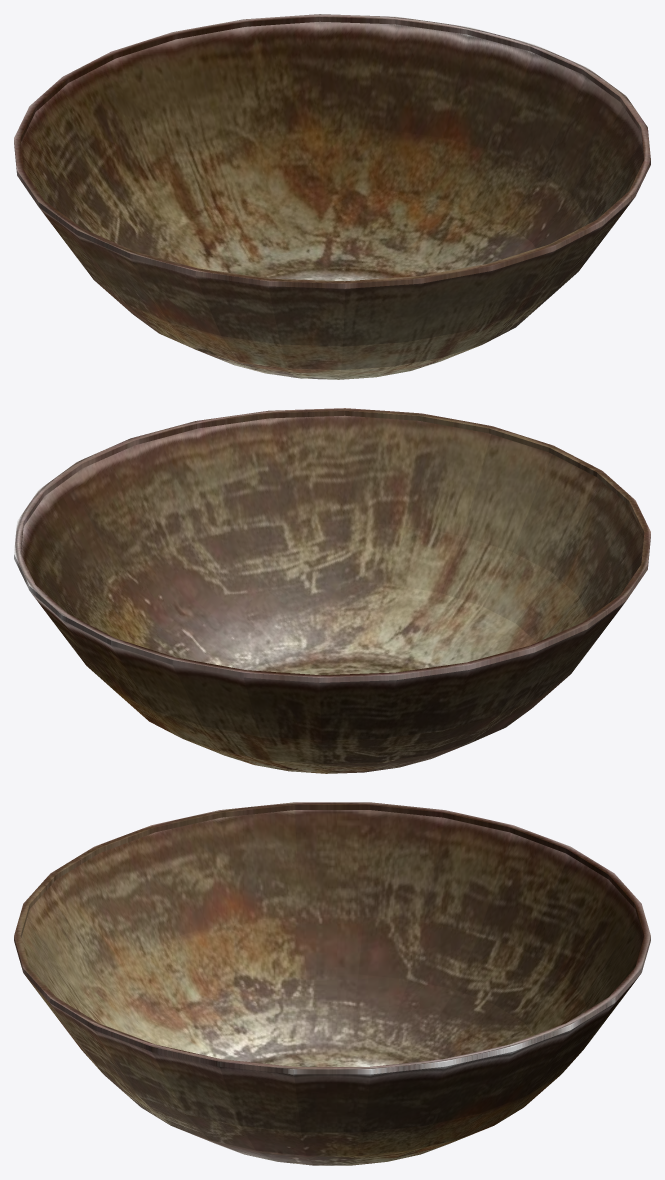
The model's file is Bowl.glb.
3 views of the same model, one above another, from view 1: azimuth 30°, elevation 25°; view 2: azimuth 150°, elevation 25°; view 3: azimuth 270°, elevation 25° (orthographic).
Parts seen in each view (by area): view 1: Cylinder; view 2: Cylinder; view 3: Cylinder.
Boxes of the visible parts, x1=… form: Cylinder: x1=14, y1=14, x2=650, y2=379; Cylinder: x1=14, y1=408, x2=650, y2=773; Cylinder: x1=14, y1=802, x2=650, y2=1165.
Size of the model in its own units: 2.39 by 0.7729 by 2.41.
1 material, 1 textured.
